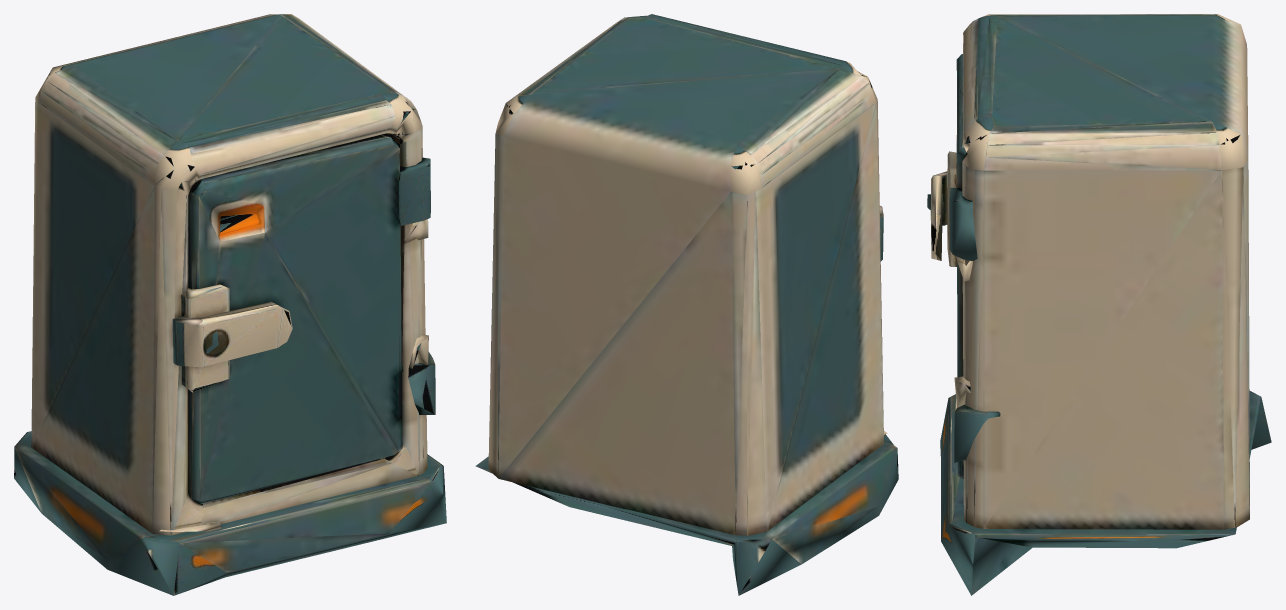
The model's file is recovery_vault-lod1.fb5b4d5bf2d3.glb.
3 renders of one model, left to right at view 1: azimuth 30°, elevation 25°; view 2: azimuth 150°, elevation 25°; view 3: azimuth 270°, elevation 25°, orthographic. The views are drawn at different scales.
Parts seen in each view (by area): view 1: geometry_0; view 2: geometry_0; view 3: geometry_0.
Part boxes in pixels (<box>): geometry_0: <box>14,14,446,595</box>; geometry_0: <box>475,14,898,595</box>; geometry_0: <box>927,14,1271,595</box>.
Bounding box in the file's own units: 0.748 × 0.9998 × 0.6931.
1 material, 1 textured.
